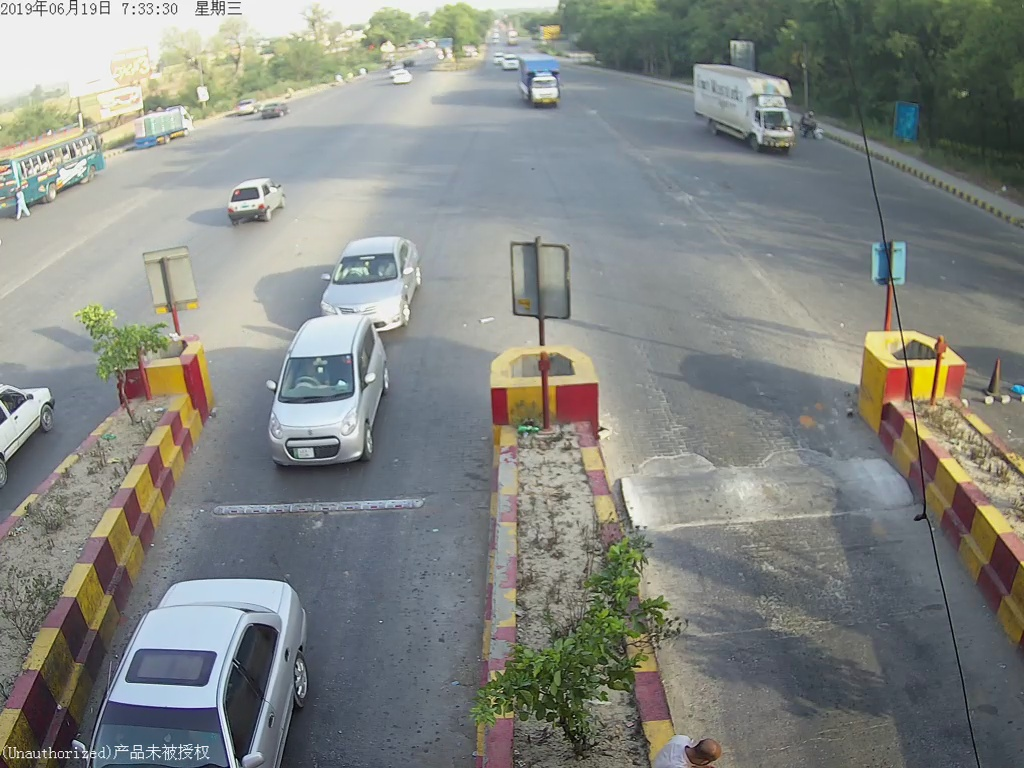Cat-1: (259, 322, 397, 469), (317, 235, 429, 313)
